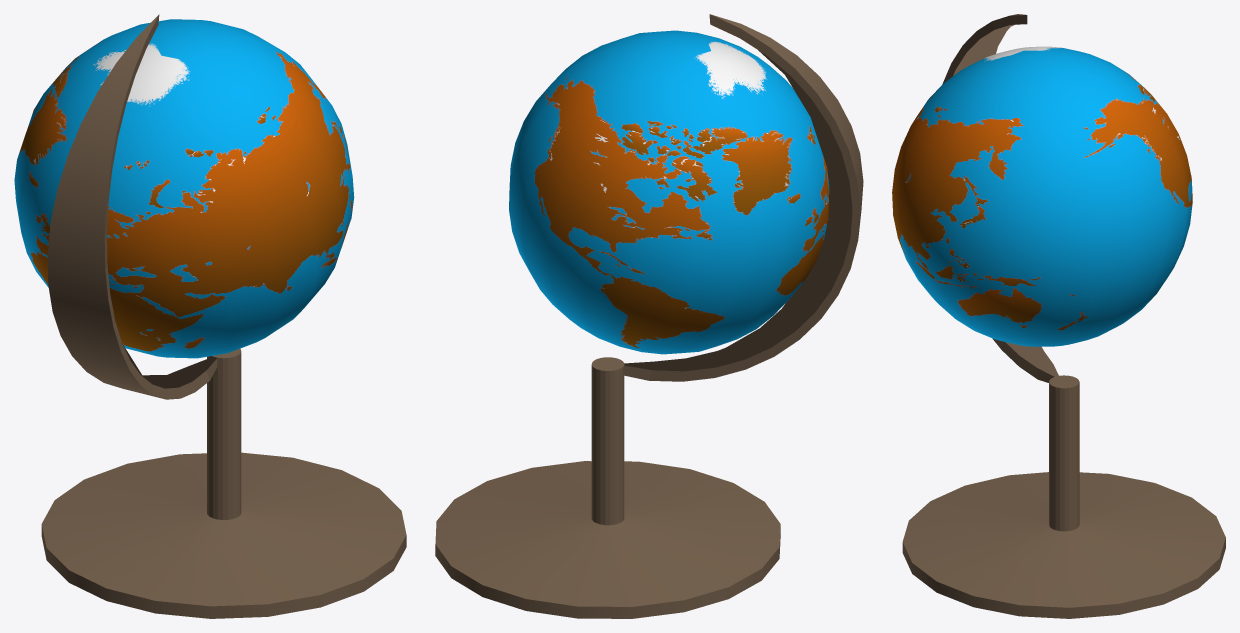
File: Obj_vid_21_globus_t_low_poly.fbx
3 views of the same model, side by side, from view 1: azimuth 30°, elevation 25°; view 2: azimuth 150°, elevation 25°; view 3: azimuth 270°, elevation 25° (orthographic). The views are drawn at different scales.
Visible parts, largest first — view 1: Obj_vid_21_globus_t_low_poly; view 2: Obj_vid_21_globus_t_low_poly; view 3: Obj_vid_21_globus_t_low_poly.
Boxes of the visible parts, x1,y1,x2,y2 form: Obj_vid_21_globus_t_low_poly: (14, 14, 406, 618); Obj_vid_21_globus_t_low_poly: (435, 14, 863, 618); Obj_vid_21_globus_t_low_poly: (892, 14, 1225, 618).
Size of the model in its own units: 0.3385 by 0.4814 by 0.292.
